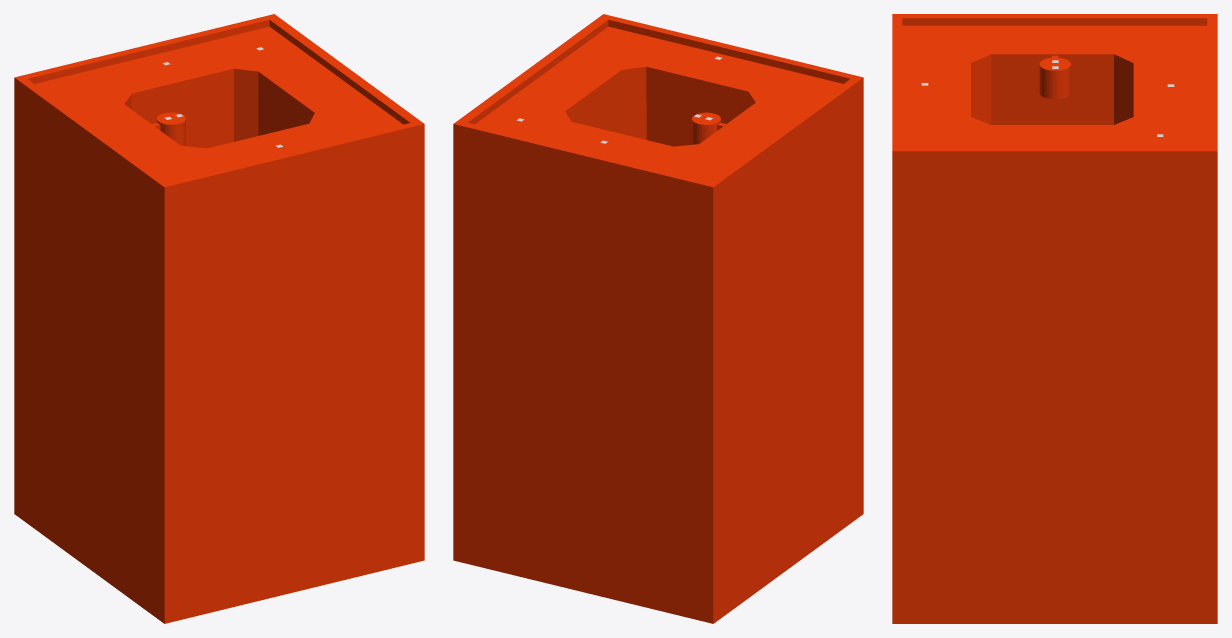
Rendered from level-02.glb.
3 renders of one model, left to right at view 1: azimuth 30°, elevation 25°; view 2: azimuth 150°, elevation 25°; view 3: azimuth 270°, elevation 25°, orthographic. The views are drawn at different scales.
Visible parts, largest first — view 1: Plane, Cylinder; view 2: Plane, Cylinder; view 3: Plane, Cylinder.
Part boxes in pixels (<box>): Plane: <box>14,14,424,623</box>; Cylinder: <box>151,112,185,145</box>; Plane: <box>453,14,863,623</box>; Cylinder: <box>692,112,725,144</box>; Plane: <box>892,14,1217,623</box>; Cylinder: <box>1039,55,1070,99</box>.
Size of what is drawn, in the model's own units: 100 by 160 by 100.
